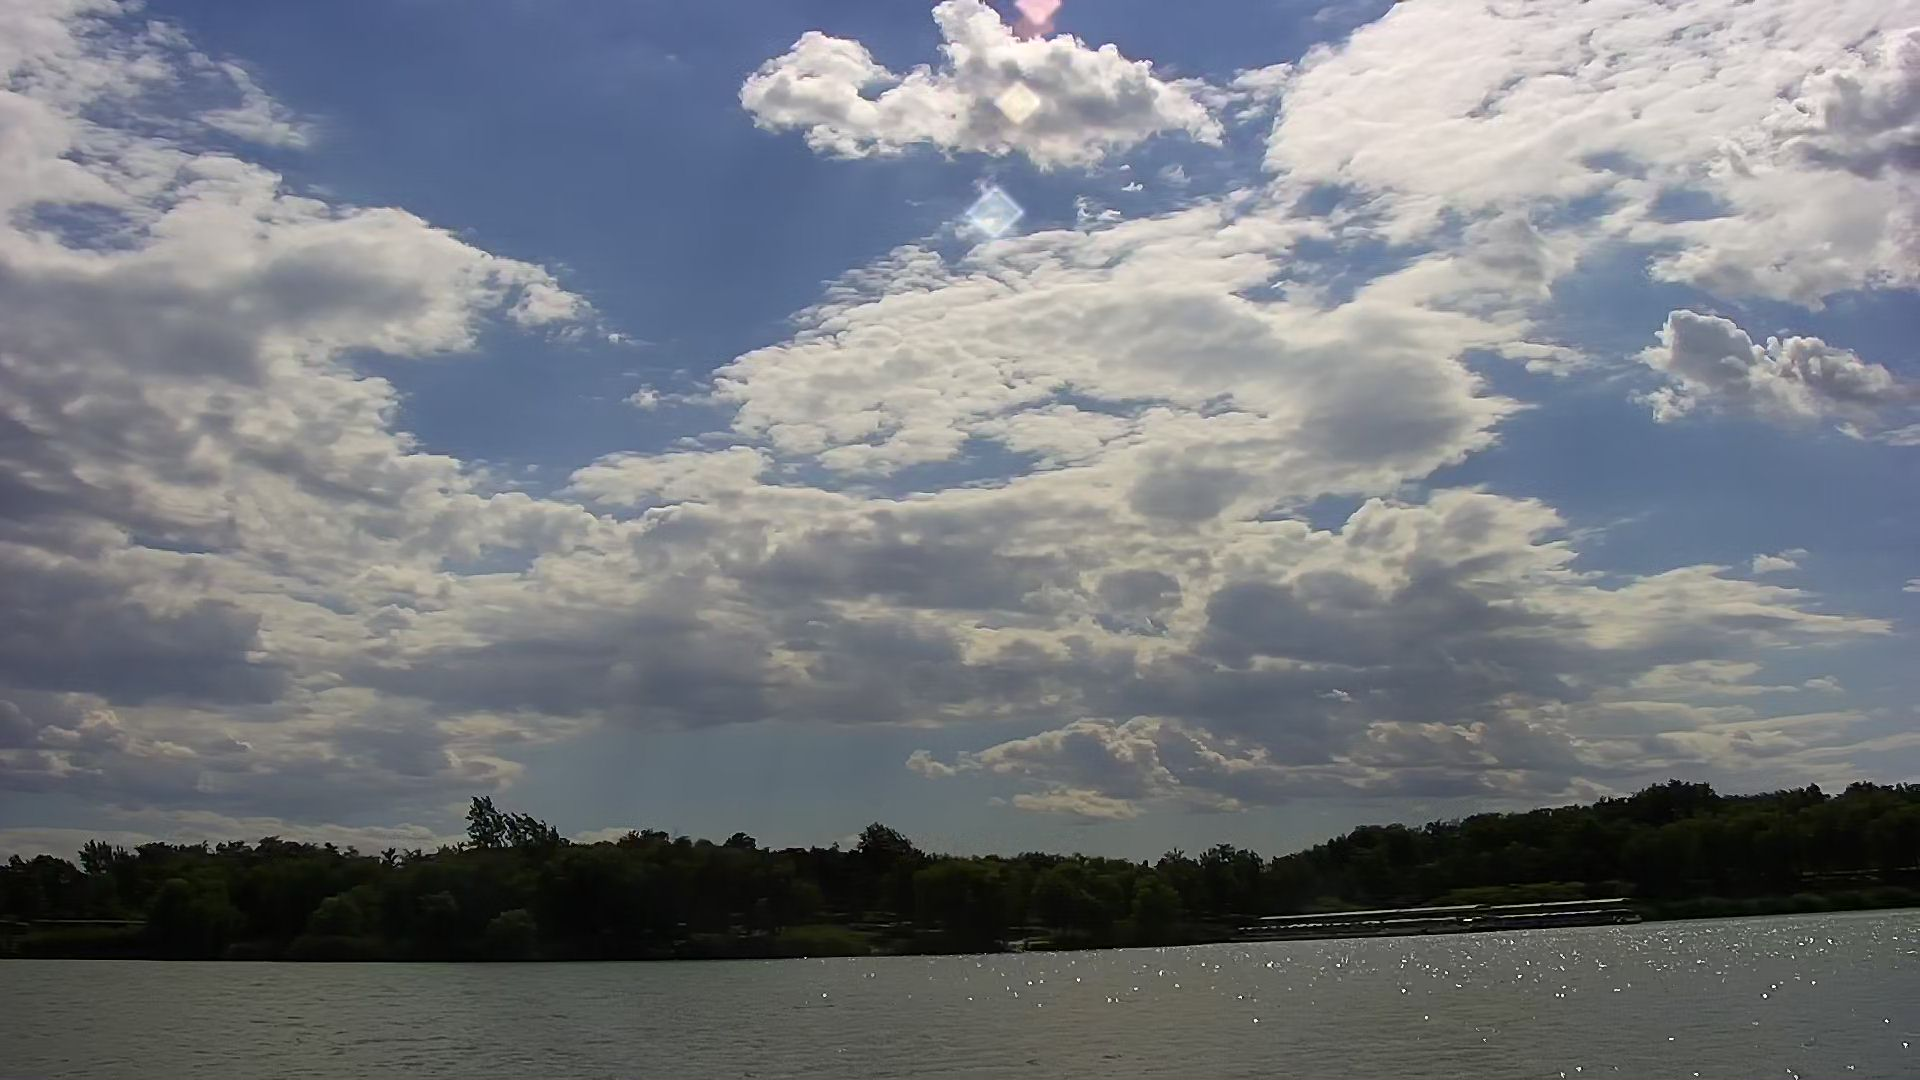harbor: (1222, 889, 1655, 949)
